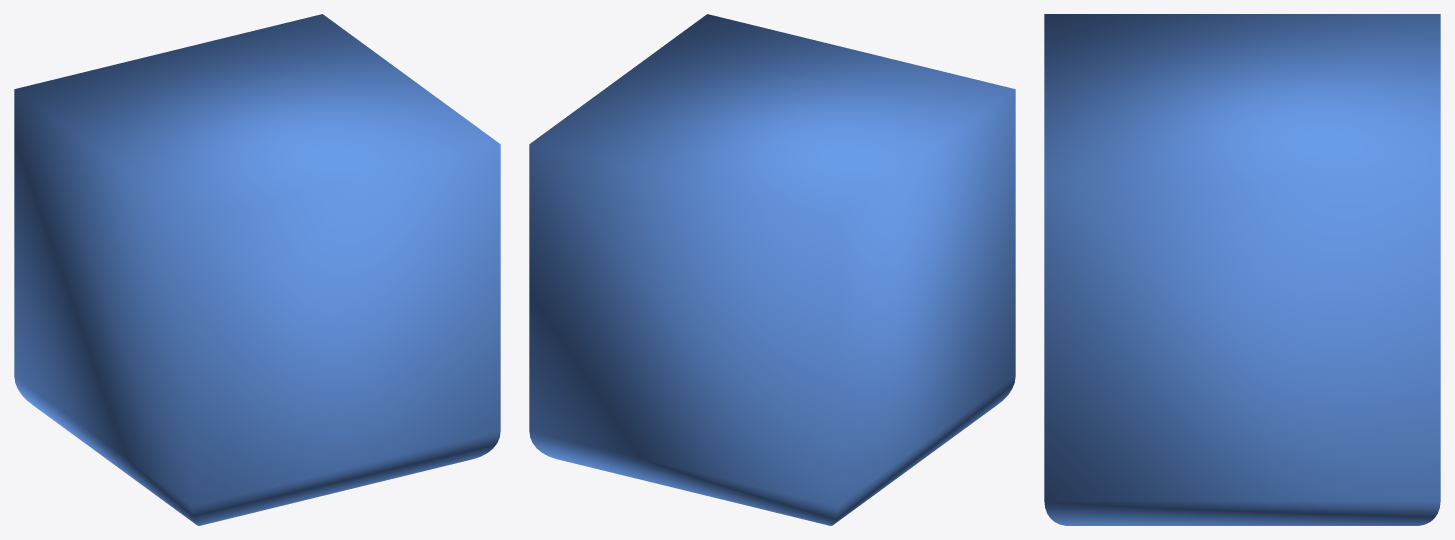
The model's file is smile.glb.
3 renders of one model, left to right at view 1: azimuth 30°, elevation 25°; view 2: azimuth 150°, elevation 25°; view 3: azimuth 270°, elevation 25°, orthographic. The views are drawn at different scales.
Visible parts, largest first — view 1: Cube.002; view 2: Cube.002; view 3: Cube.002.
Boxes of the visible parts, x1,y1,x2,y2 form: Cube.002: (14,14,500,525); Cube.002: (529,14,1015,525); Cube.002: (1044,14,1440,525).
Size of the model in its own units: 55.55 by 55.55 by 55.55.
